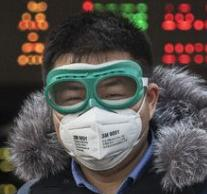OK: (53, 68, 146, 172)
